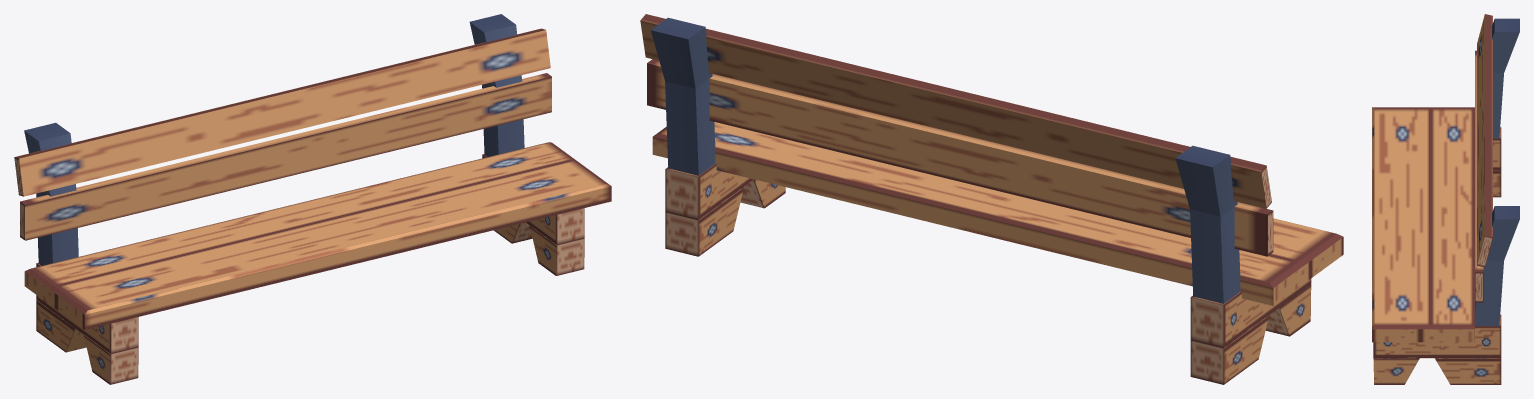
Rendered from Banquinho.v1.fbx.
The picture shows the model from 3 angles, left to right: view 1: azimuth 30°, elevation 25°; view 2: azimuth 150°, elevation 25°; view 3: azimuth 270°, elevation 25°; orthographic projection. The views are drawn at different scales.
Visible parts, largest first — view 1: Banquinho; view 2: Banquinho; view 3: Banquinho.
Part boxes in pixels (left/top/right/bottom): Banquinho: left=14, top=14, right=611, bottom=384; Banquinho: left=640, top=14, right=1343, bottom=384; Banquinho: left=1372, top=14, right=1519, bottom=384.
Size of the model in its own units: 280 by 78.79 by 97.83.
